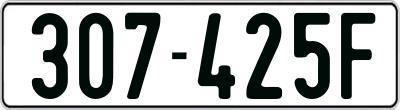0: (79, 12, 119, 104)
2: (245, 10, 284, 97)
3: (31, 13, 69, 105)
4: (197, 12, 238, 103)
5: (293, 12, 332, 100)
7: (123, 10, 161, 98)
F: (338, 13, 378, 102)
